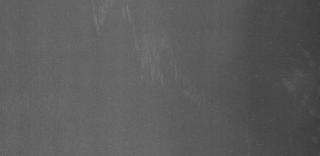oil spot: (278, 72, 302, 96)
silk spot: (88, 5, 192, 85)
